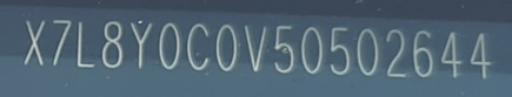letter: (128, 19, 154, 70), (242, 22, 268, 73), (214, 23, 240, 74), (354, 26, 380, 77), (49, 16, 73, 69), (22, 17, 46, 68), (156, 21, 180, 72), (186, 22, 210, 73), (328, 25, 352, 76), (384, 26, 408, 77), (468, 29, 492, 80), (101, 20, 125, 69), (299, 26, 323, 75), (410, 28, 434, 77), (439, 30, 463, 79), (76, 19, 98, 70), (272, 24, 294, 75)
